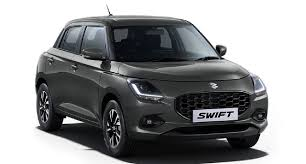Swift: (29, 6, 273, 154)
